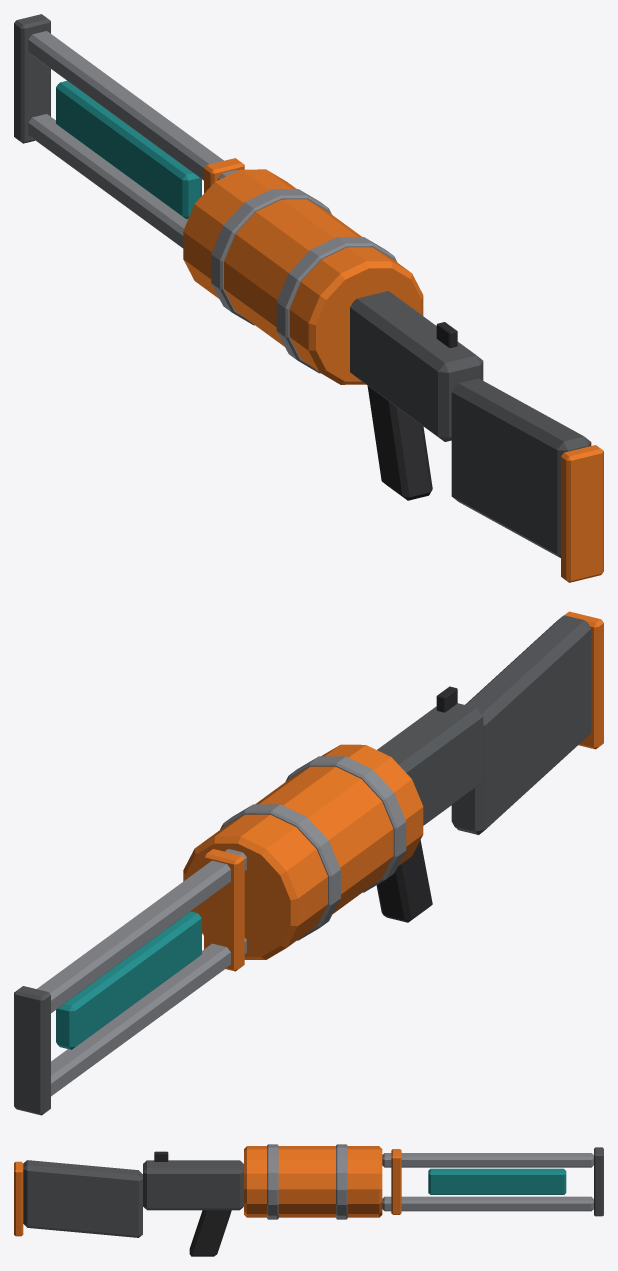
The model's file is charge_rifle.glb.
3 renders of one model, top to bottom at view 1: azimuth 30°, elevation 25°; view 2: azimuth 150°, elevation 25°; view 3: azimuth 270°, elevation 25°, orthographic. The views are drawn at different scales.
Visible parts, largest first — view 1: charge_rifle; view 2: charge_rifle; view 3: charge_rifle.
Boxes of the visible parts, x1,y1,x2,y2 form: charge_rifle: (14,14,603,582); charge_rifle: (14,611,603,1115); charge_rifle: (14,1144,603,1256).
Size of the model in its own units: 0.1185 by 0.189 by 0.95.
